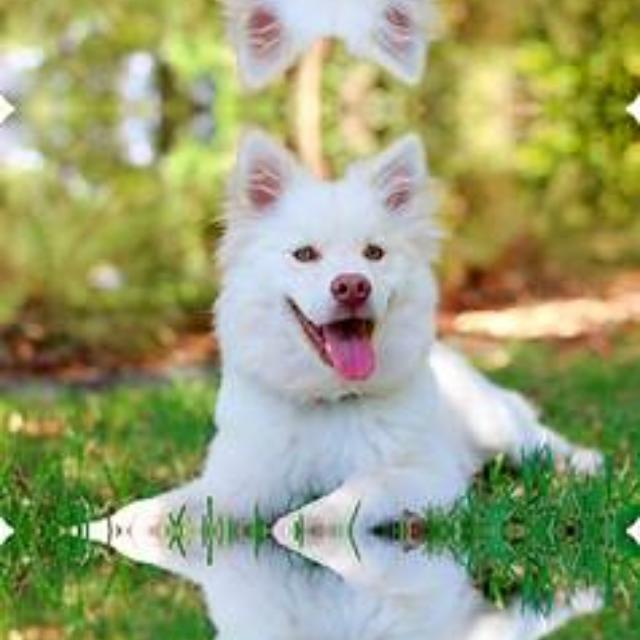dog: (170, 144, 574, 530), (169, 530, 574, 640), (169, 0, 574, 72)
